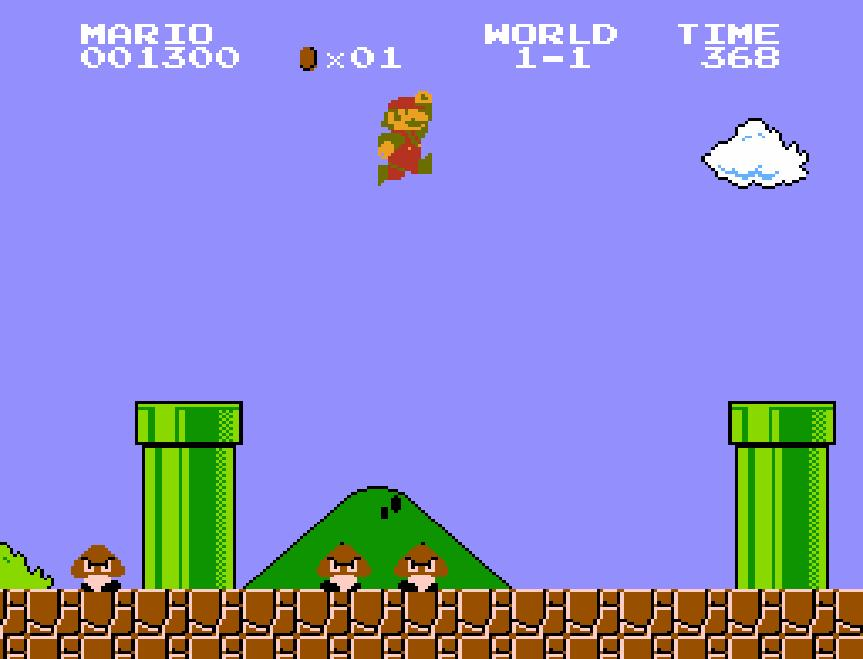big_mario: (376, 88, 434, 186)
